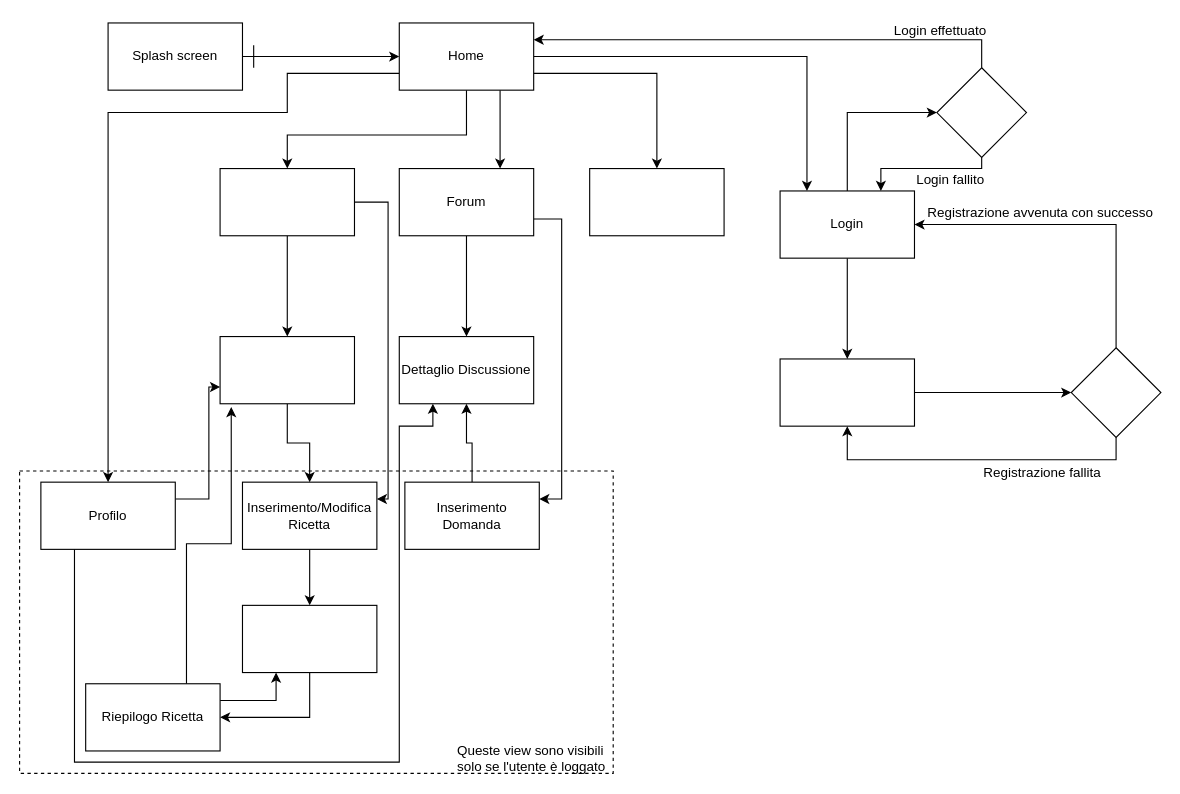
Some shapes in this 1180 by 794 pixel diagram are drawn without their labels. Here are the shapes that lost their labels. From the top down, the centre of each, then its label:
point 286,201: Ricette
point 656,201: Impostazioni
point 286,369: Dettaglio Ricetta
point 846,392: Registrazione
point 309,638: Preparazione Ricetta
